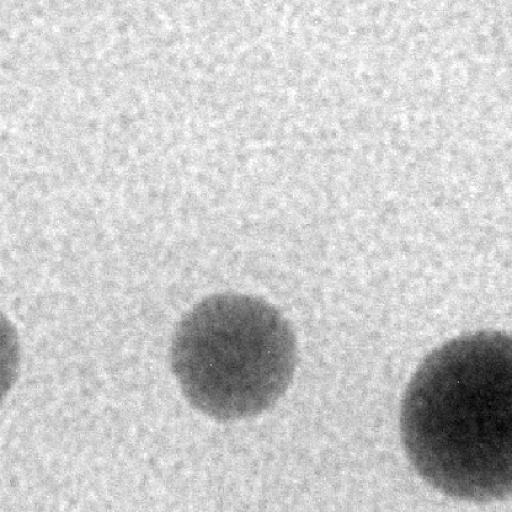Nanoparticles: (400, 329, 512, 506), (168, 293, 304, 424), (0, 308, 44, 421)
